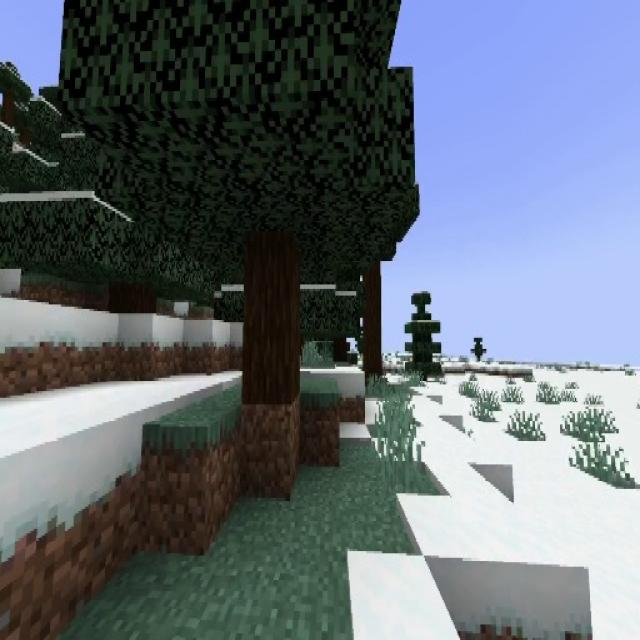spruce: (102, 0, 417, 407), (403, 289, 444, 386)
spruce_log: (246, 257, 299, 408), (363, 267, 381, 383), (112, 281, 152, 322), (334, 338, 346, 362)
